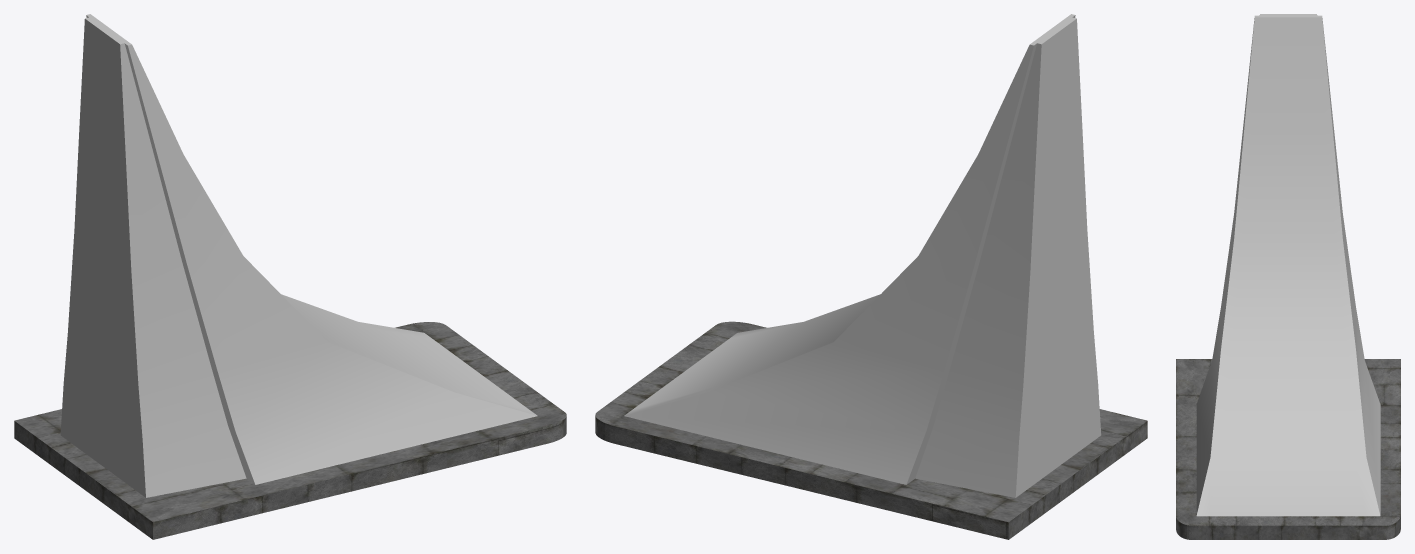
The model's file is Pilar.fbx.
The picture shows the model from 3 angles, left to right: view 1: azimuth 30°, elevation 25°; view 2: azimuth 150°, elevation 25°; view 3: azimuth 270°, elevation 25°; orthographic projection. The views are drawn at different scales.
Visible parts, largest first — view 1: Cube.021, Cube.019; view 2: Cube.021, Cube.019; view 3: Cube.021, Cube.019.
Boxes of the visible parts, x1,y1,x2,y2 form: Cube.021: (60, 14, 537, 497); Cube.019: (14, 322, 566, 539); Cube.021: (624, 14, 1101, 497); Cube.019: (595, 321, 1147, 539); Cube.021: (1196, 14, 1380, 516); Cube.019: (1176, 359, 1400, 539).
Size of the model in its own units: 753 by 773 by 429.
